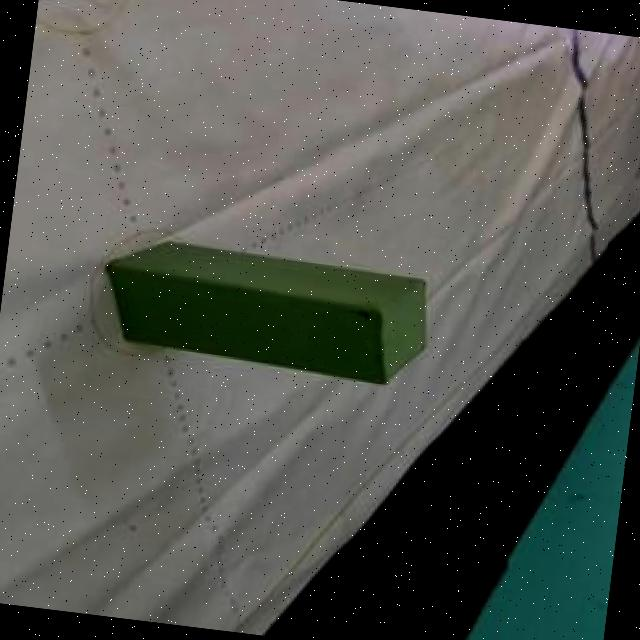greenbox: (99, 235, 437, 390)
